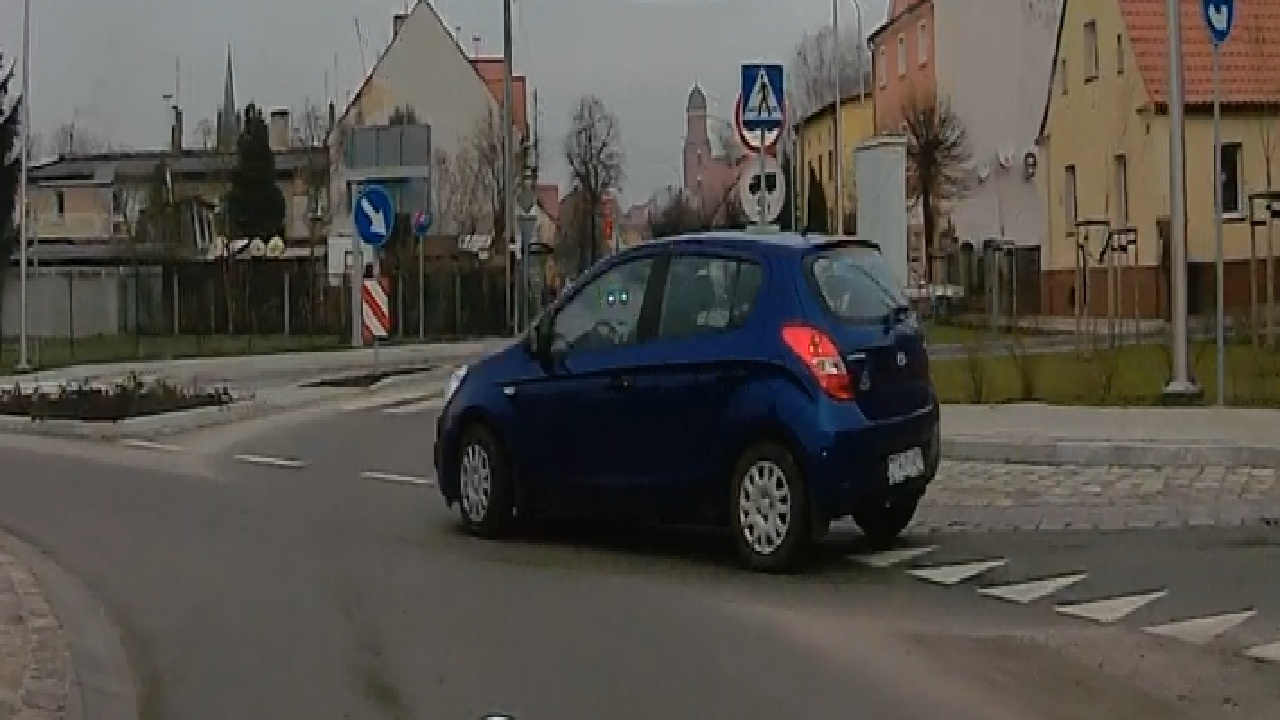C9: (356, 188, 393, 244)
D6: (741, 64, 785, 128)
